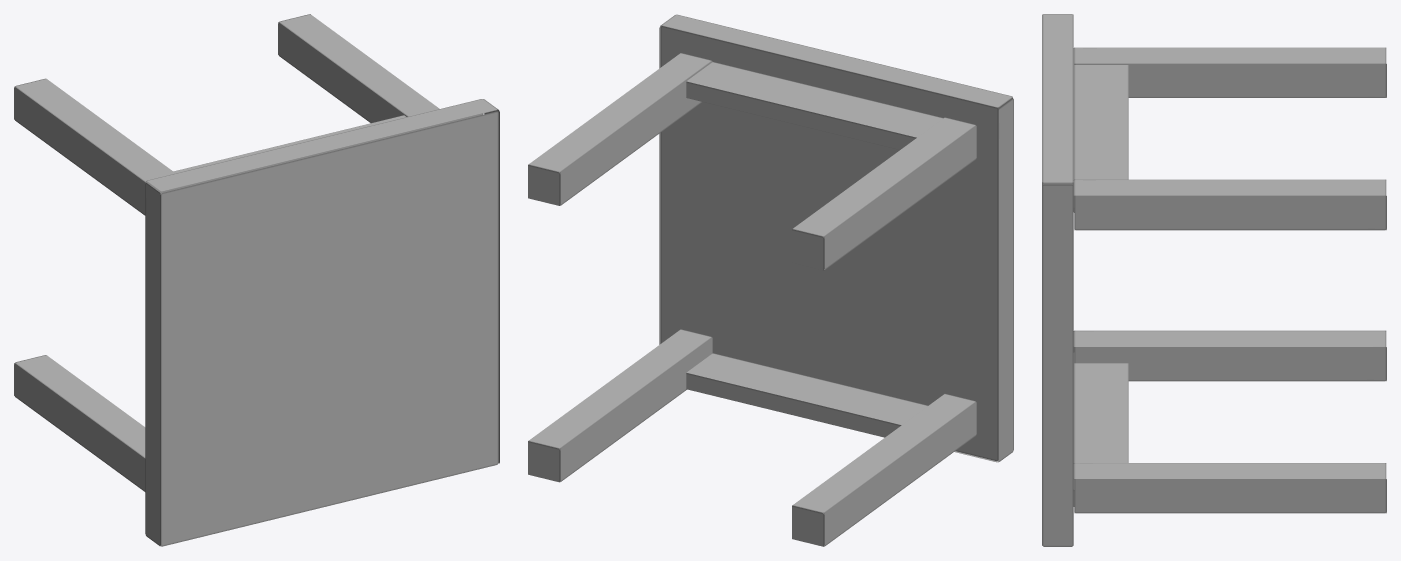
The model's file is pz_table_tables_high_01_fancy_table.obj.
The picture shows the model from 3 angles, left to right: view 1: azimuth 30°, elevation 25°; view 2: azimuth 150°, elevation 25°; view 3: azimuth 270°, elevation 25°; orthographic projection. The views are drawn at different scales.
Size of the model in its own units: 0.95 by 0.95 by 0.8165.
1 material, 1 textured.
